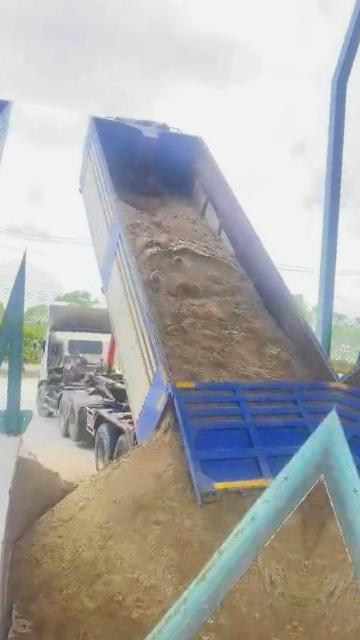sand: (7, 411, 256, 640), (122, 195, 312, 382), (184, 490, 318, 640)
